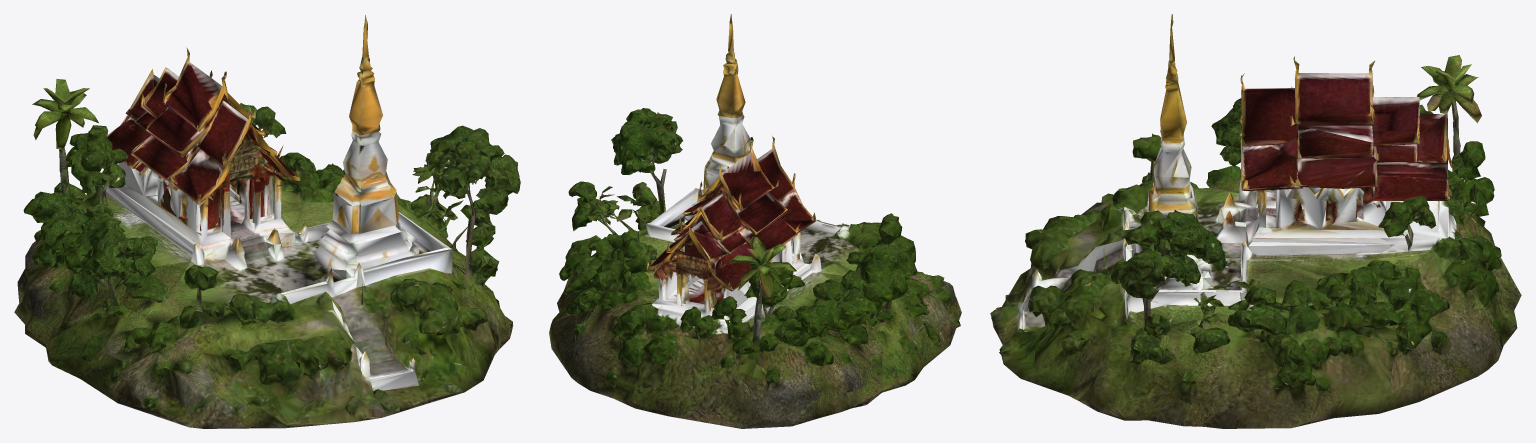
File: temple.glb
The picture shows the model from 3 angles, left to right: view 1: azimuth 30°, elevation 25°; view 2: azimuth 150°, elevation 25°; view 3: azimuth 270°, elevation 25°; orthographic projection. The views are drawn at different scales.
Visible parts, largest first — view 1: Mesh_0; view 2: Mesh_0; view 3: Mesh_0.
Boxes of the visible parts, x1,y1,x2,y2 form: Mesh_0: (14, 15, 520, 428); Mesh_0: (549, 14, 961, 428); Mesh_0: (990, 14, 1521, 428).
Bounding box in the file's own units: 0.9258 × 0.7116 × 1.
Materials: 1 (1 with a texture image).
